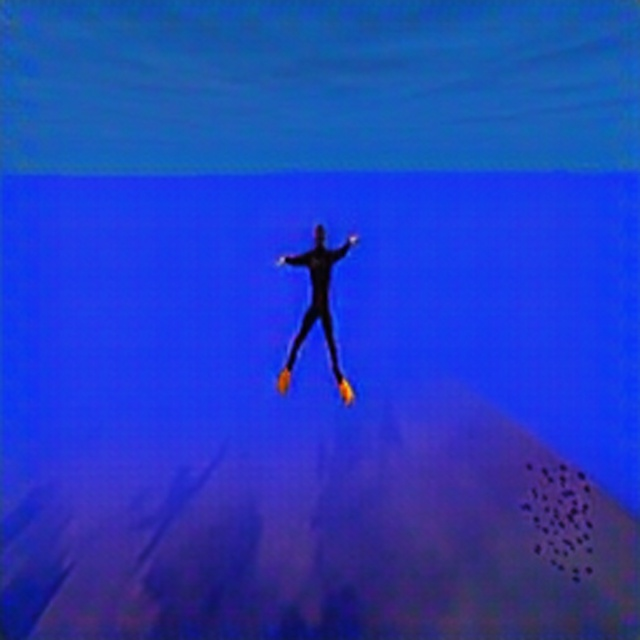diver: (273, 221, 362, 402)
